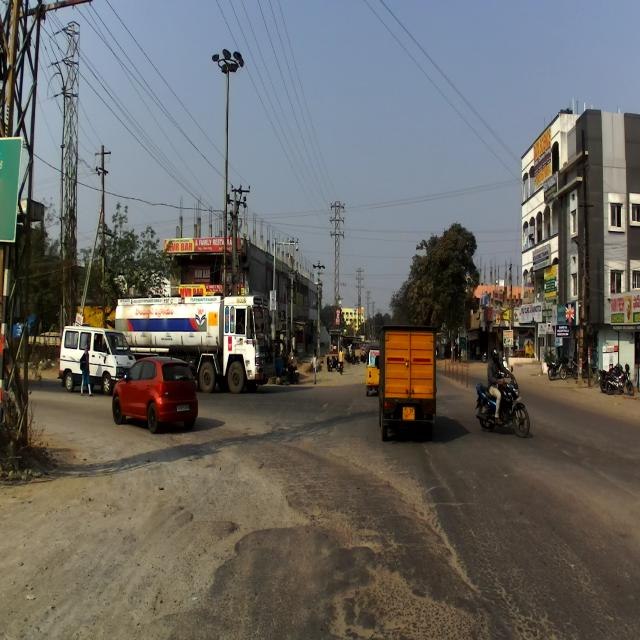car ahead at: (108, 348, 202, 447), (56, 318, 122, 392)
motorcycle ahead at: (474, 376, 531, 437)
truck ahead at: (112, 289, 268, 362), (374, 319, 439, 445)
